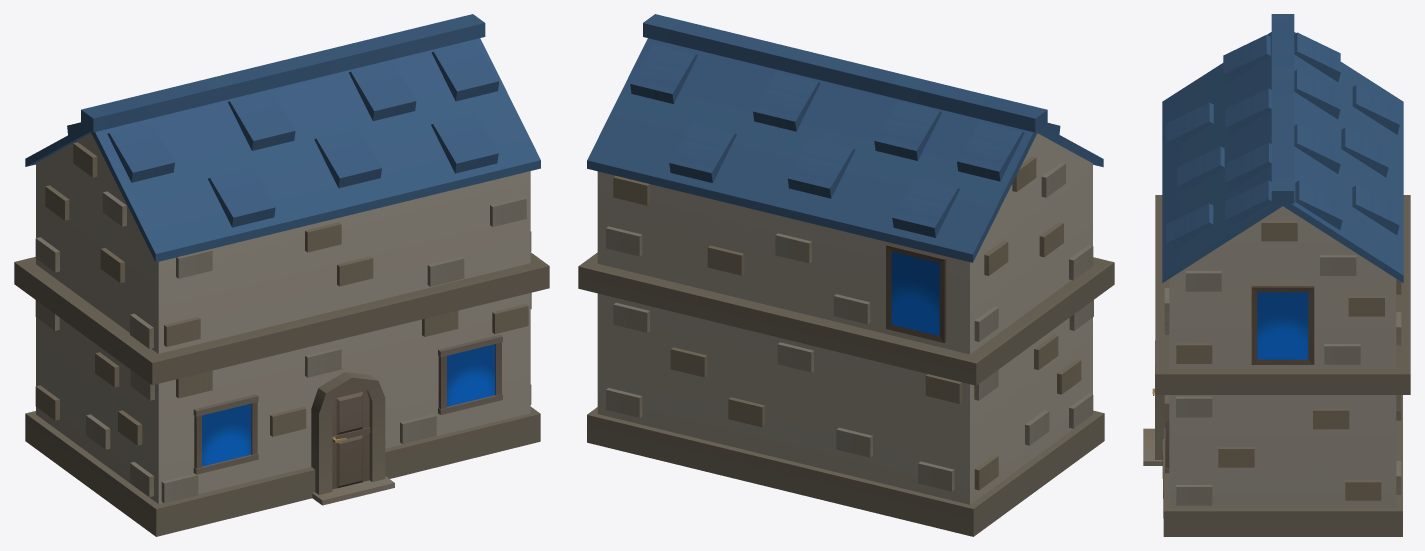
File: SM_House_7.FBX
3 views of the same model, side by side, from view 1: azimuth 30°, elevation 25°; view 2: azimuth 150°, elevation 25°; view 3: azimuth 270°, elevation 25° (orthographic). The views are drawn at different scales.
Parts seen in each view (by area): view 1: SM_House_7; view 2: SM_House_7; view 3: SM_House_7.
Boxes of the visible parts, x1=… form: SM_House_7: x1=14, y1=14, x2=549, y2=536; SM_House_7: x1=578, y1=14, x2=1114, y2=536; SM_House_7: x1=1143, y1=14, x2=1410, y2=536.
Size of what is drawn, in the model's own units: 823 by 518 by 742.
